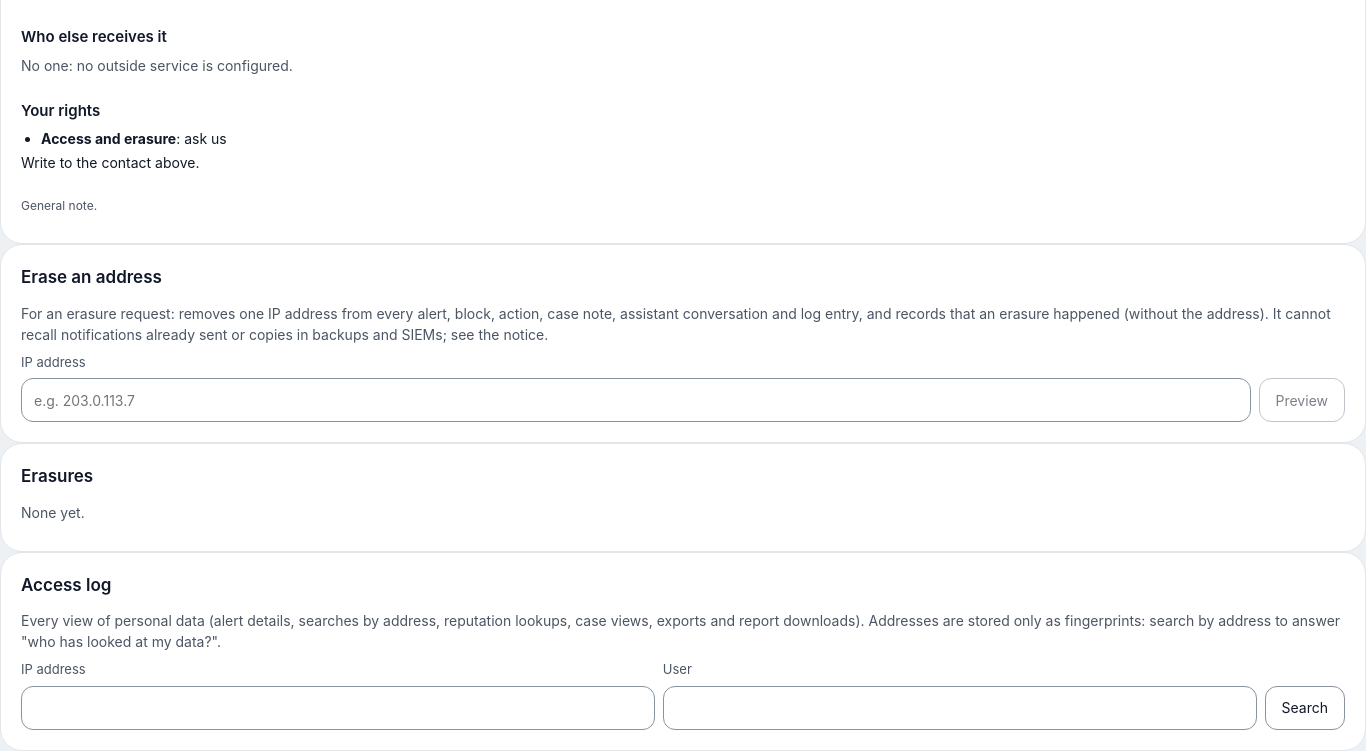
AccessLog › searches with ip and username, renders rows, loads older
(page scrolled)
Type " 198.51.100.2 " into the field labelled "IP address" below "User" at (338, 708), box left=21, top=686, right=655, bottom=730
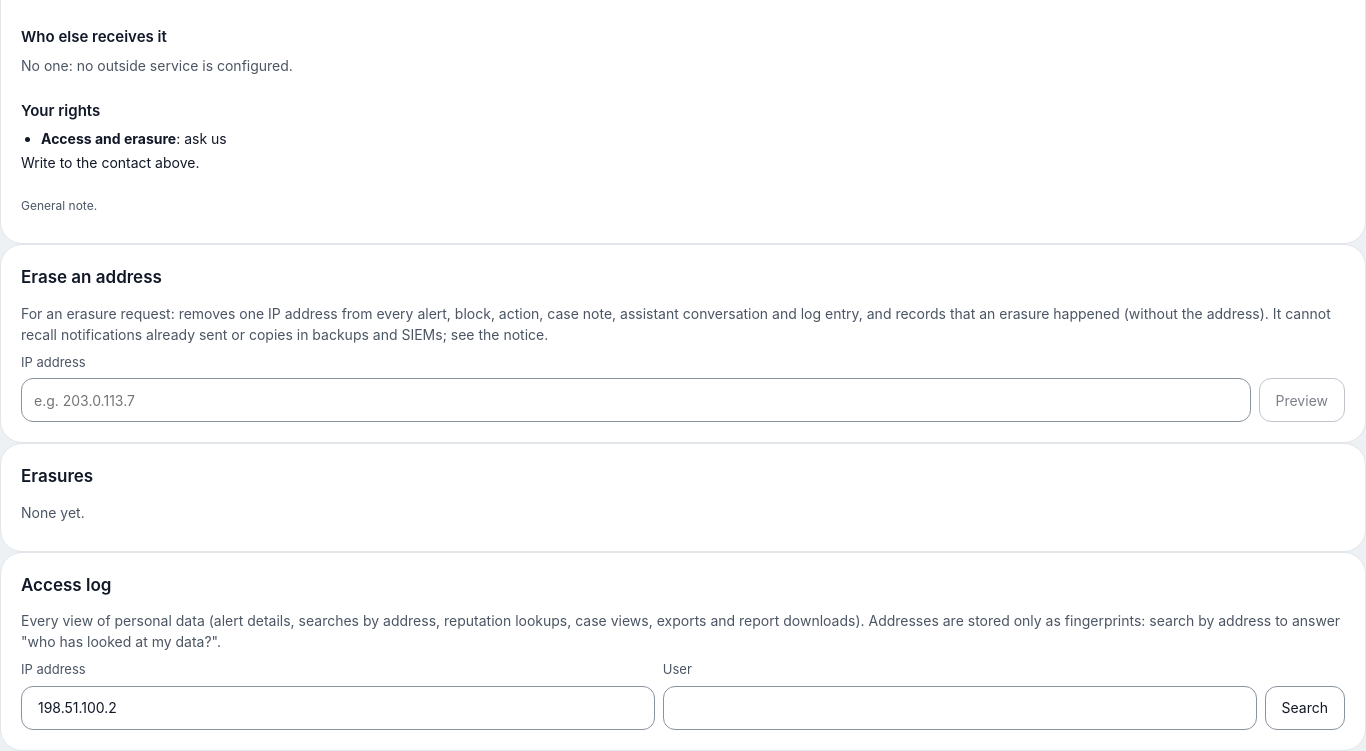
Type "alice" into the field labelled "User" at (960, 708), box left=663, top=686, right=1257, bottom=730
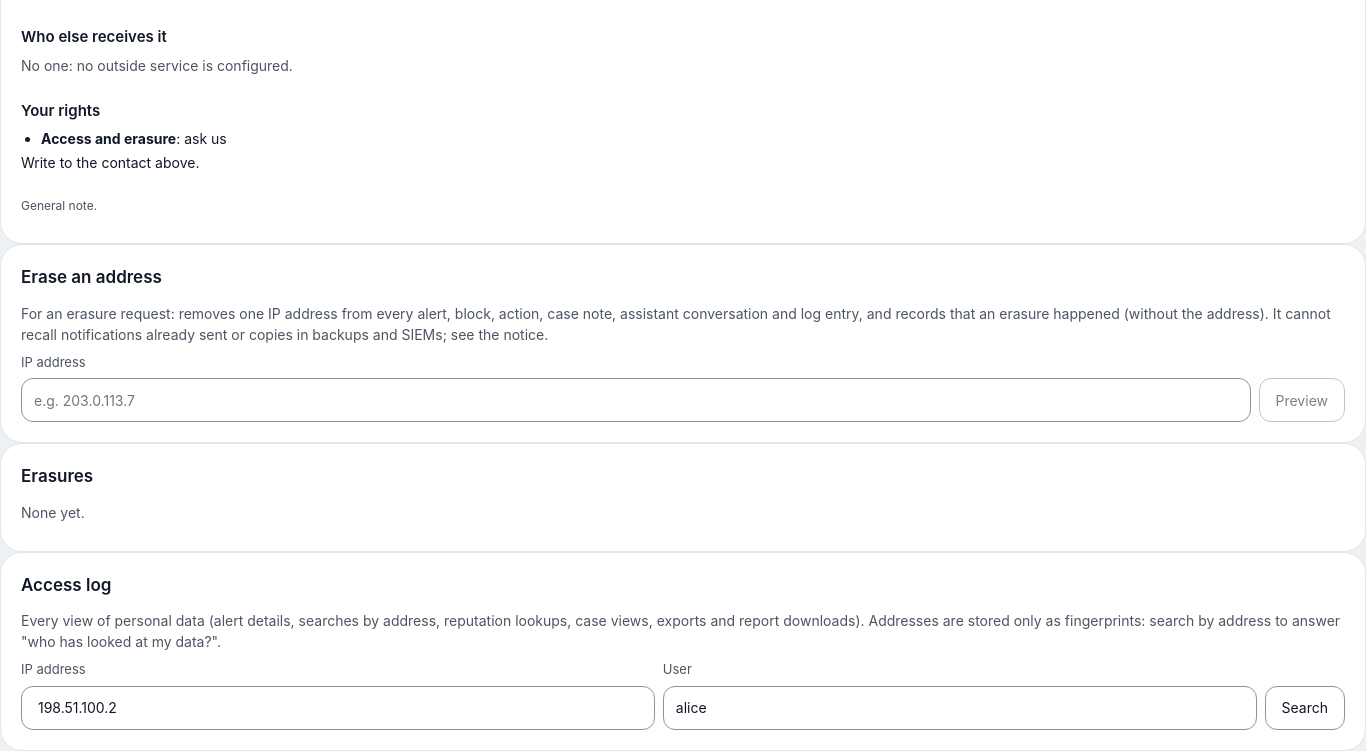
Click the button "Search" at (1305, 708), box left=1264, top=686, right=1345, bottom=730
(page scrolled)
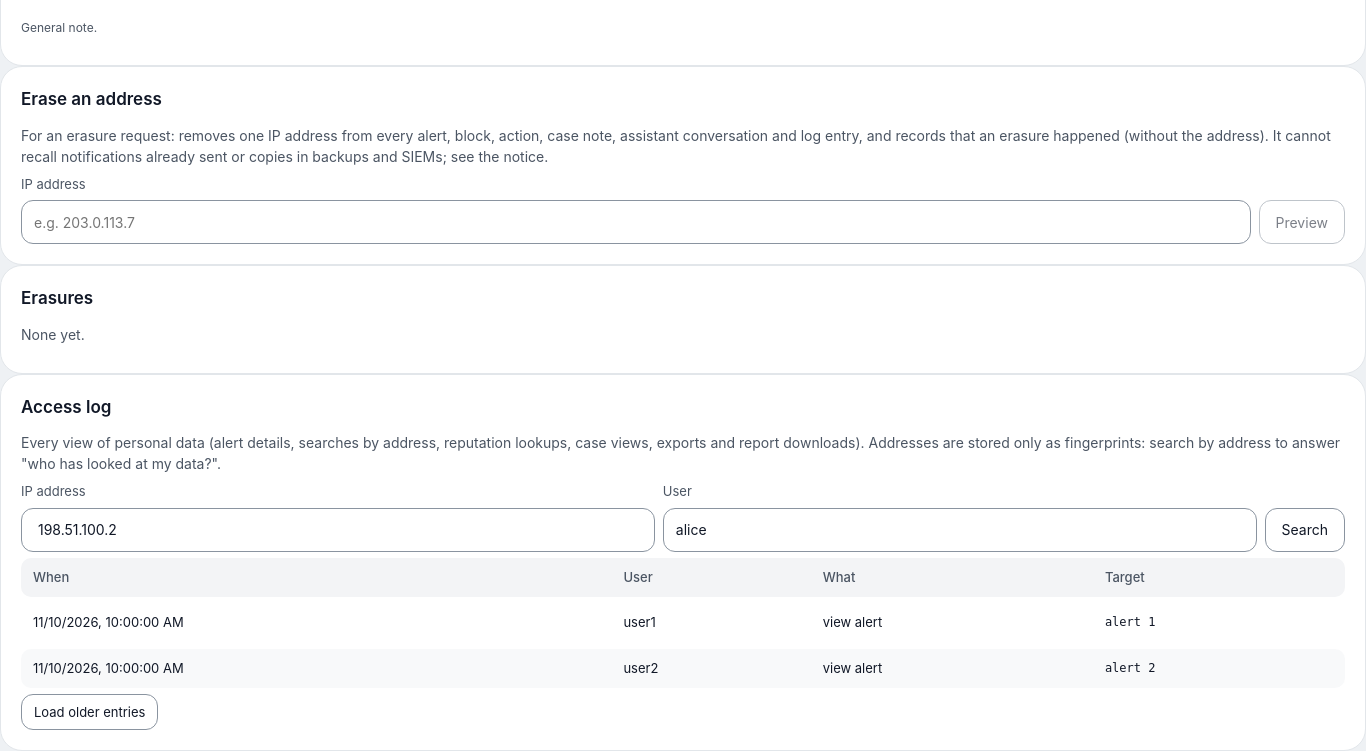
Now the text "user1" is shown, box left=611, top=603, right=811, bottom=643
Now the text "view alert" is shown 2 times, box left=811, top=603, right=1093, bottom=643; left=811, top=649, right=1093, bottom=688
Click the button "Load older entries" at (90, 712), box left=21, top=694, right=158, bottom=730
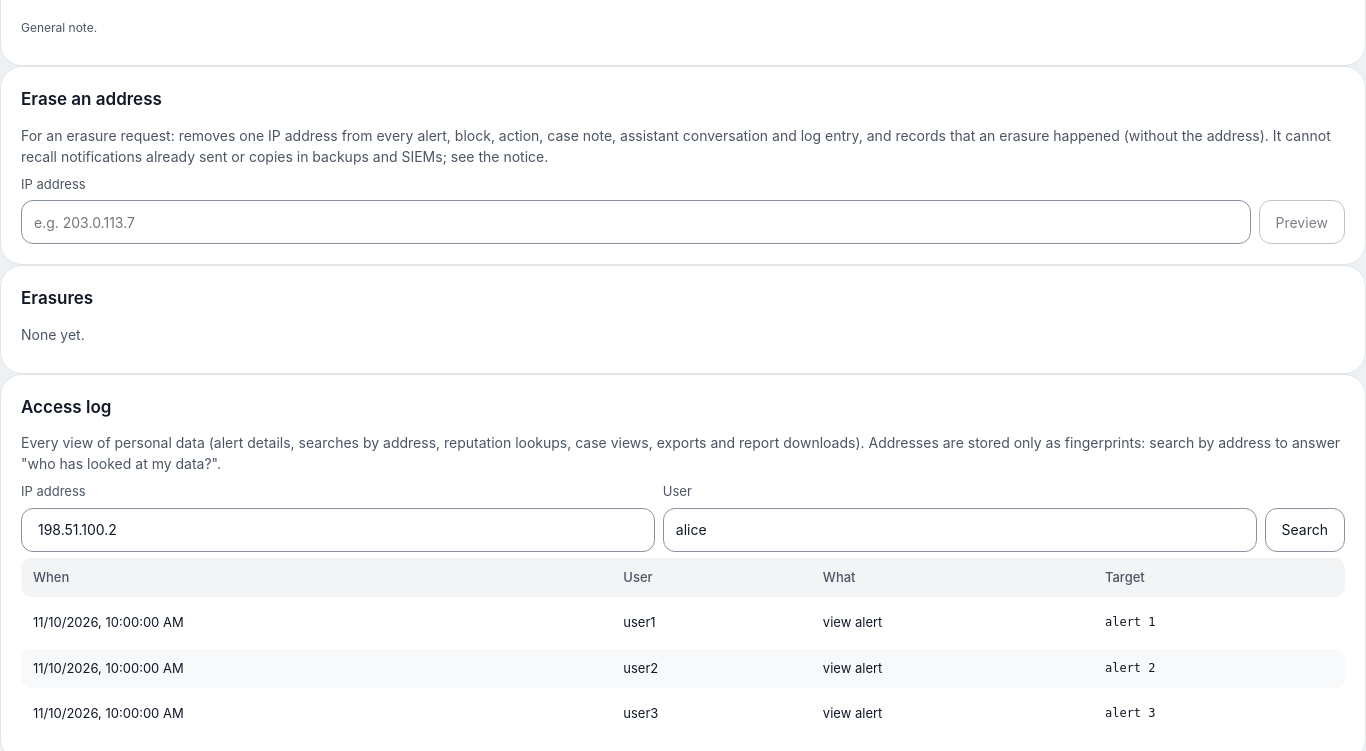
Now the text "user1" is shown, box left=611, top=603, right=811, bottom=643
Now the text "user3" is shown, box left=611, top=694, right=811, bottom=734
Now the button "Load older entries" is gone
